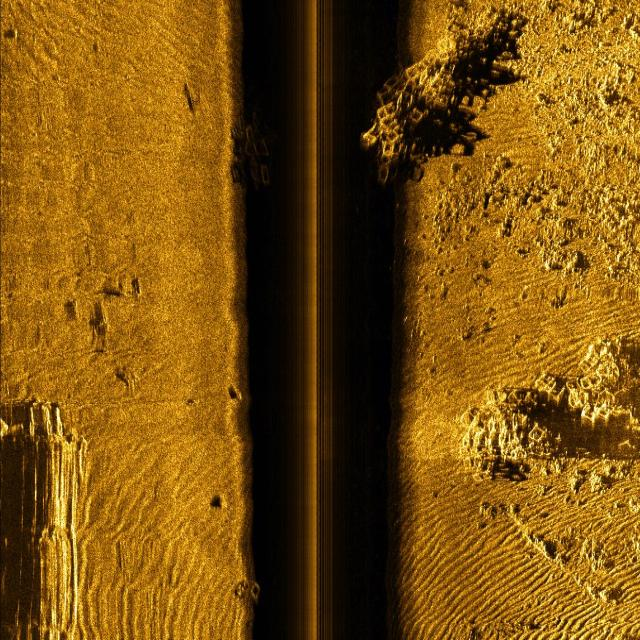artificial reef: (366, 0, 516, 191), (457, 347, 625, 496), (219, 86, 288, 212), (231, 560, 271, 611)
